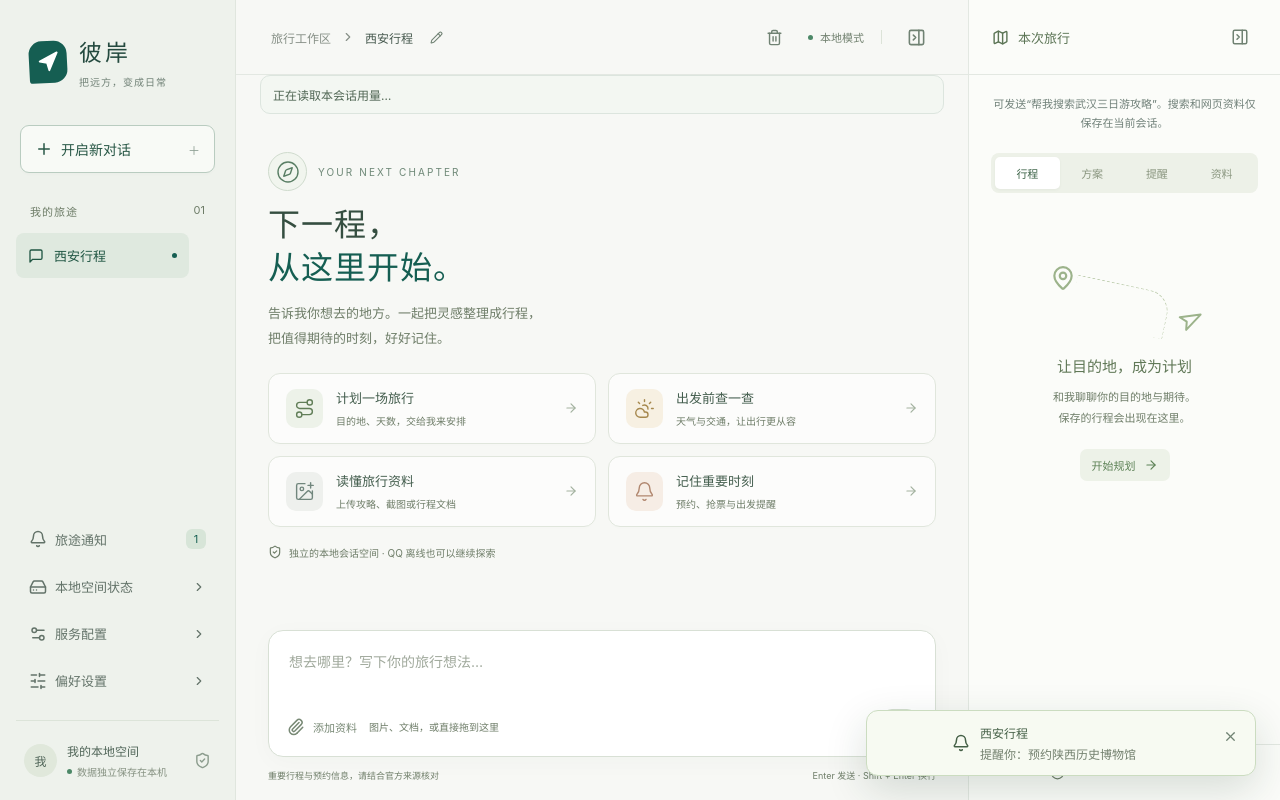
Test: local conversation interactions › shows an in-page toast when a new journey notification arrives
Expected: the text "提醒你：预约陕西历史博物馆" is shown, left=980, top=745, right=1136, bottom=762
Click the button "西安行程 提醒你：预约陕西历史博物馆": (1004, 734) left=879, top=723, right=1209, bottom=763
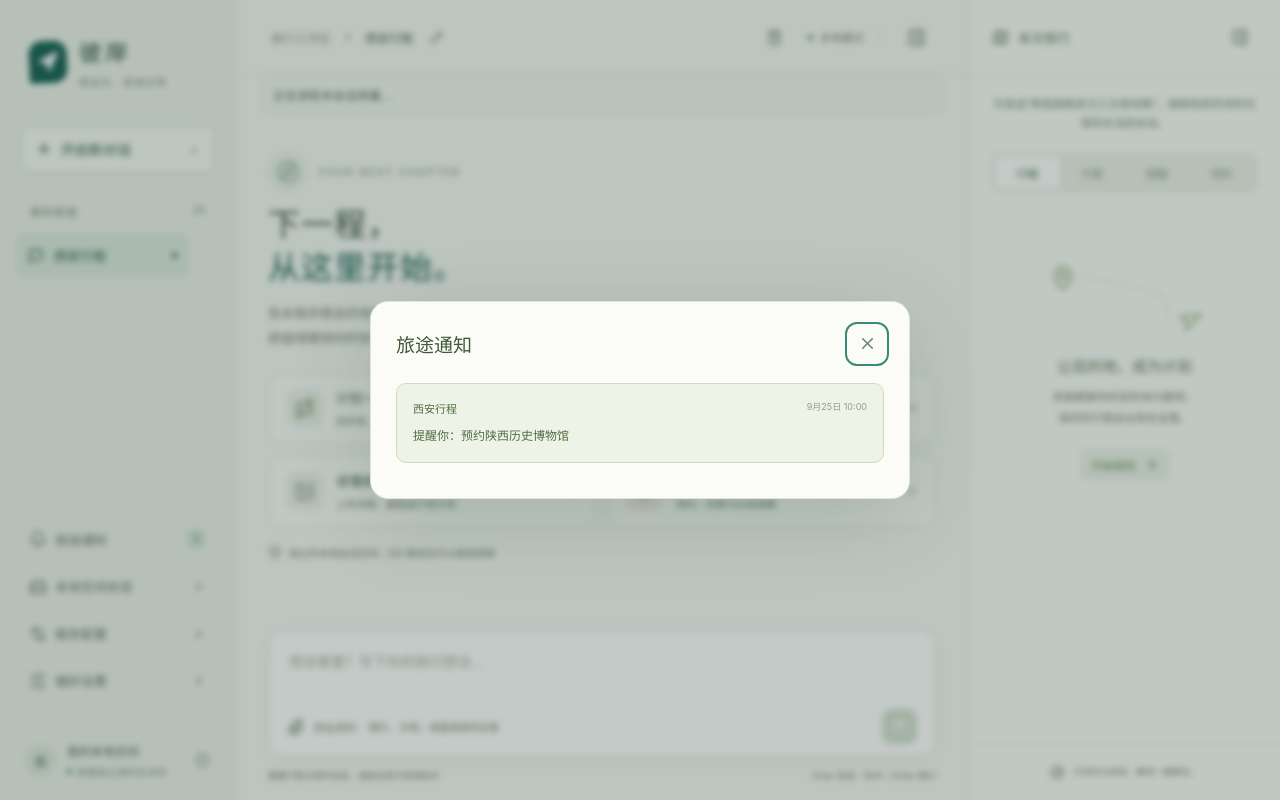
Result: the heading "旅途通知" is shown at left=396, top=330, right=472, bottom=357
